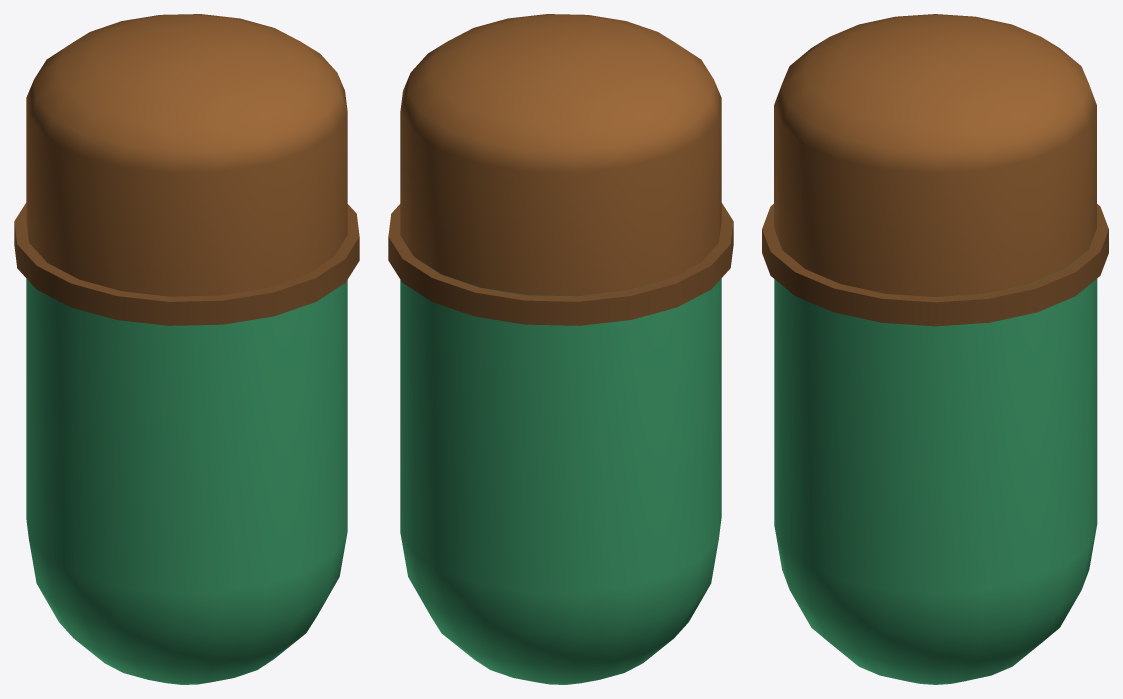
File: Zombie Model.fbx
3 renders of one model, left to right at view 1: azimuth 30°, elevation 25°; view 2: azimuth 150°, elevation 25°; view 3: azimuth 270°, elevation 25°, orthographic.
Visible parts, largest first — view 1: pCylinder1, pCylinder5, pCylinder3; view 2: pCylinder1, pCylinder5, pCylinder3; view 3: pCylinder1, pCylinder5, pCylinder3.
Part boxes in pixels (x1=…): pCylinder1: x1=26, y1=243, x2=347, y2=684; pCylinder5: x1=26, y1=14, x2=347, y2=296; pCylinder3: x1=14, y1=203, x2=359, y2=325; pCylinder1: x1=400, y1=237, x2=721, y2=684; pCylinder5: x1=400, y1=14, x2=721, y2=296; pCylinder3: x1=388, y1=203, x2=733, y2=325; pCylinder1: x1=774, y1=229, x2=1097, y2=684; pCylinder5: x1=774, y1=14, x2=1096, y2=296; pCylinder3: x1=762, y1=204, x2=1108, y2=326.
Bounding box in the file's own units: 2.15 × 4.29 × 2.15.
